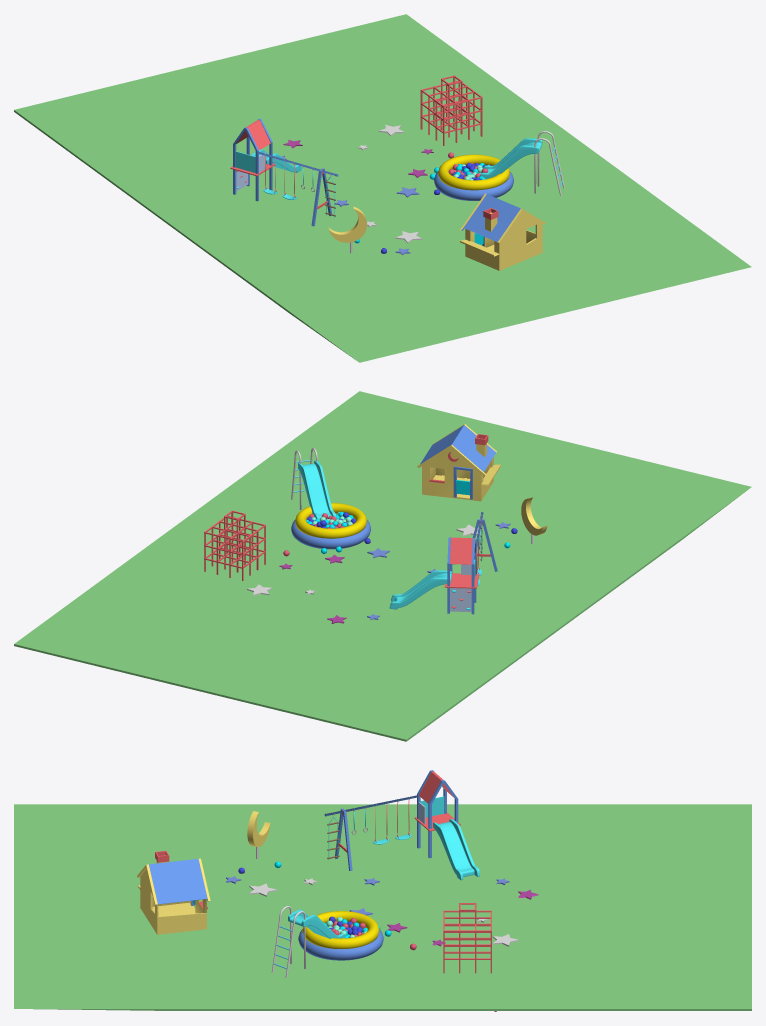
Rendered from Chambre_enfant_souvenir.fbx.
3 renders of one model, top to bottom at view 1: azimuth 30°, elevation 25°; view 2: azimuth 150°, elevation 25°; view 3: azimuth 270°, elevation 25°, orthographic. The views are drawn at different scales.
Visible parts, largest first — view 1: Plane.004, Cube, jeu_strucutre, cage_poule, piscine, piscine.001, toboggan.001; view 2: Plane.004, Cube, jeu_strucutre, cage_poule, piscine, toboggan.001, piscine.001, toboggan, Balles_piscine; view 3: Plane.004, Cube, jeu_strucutre, cage_poule, piscine, toboggan, piscine.001, toboggan.001, Balles_piscine, BézierCurve, lune.
Boxes of the visible parts, left/top/right/bottom form: Plane.004: left=14, top=14, right=751, bottom=362; Cube: left=460, top=193, right=545, bottom=270; jeu_strucutre: left=230, top=118, right=338, bottom=226; cage_poule: left=420, top=75, right=482, bottom=145; piscine: left=438, top=154, right=509, bottom=190; piscine.001: left=434, top=171, right=513, bottom=200; toboggan.001: left=479, top=138, right=542, bottom=178; Plane.004: left=14, top=391, right=751, bottom=741; Cube: left=417, top=424, right=501, bottom=501; jeu_strucutre: left=444, top=512, right=497, bottom=614; cage_poule: left=204, top=510, right=265, bottom=580; piscine: left=295, top=503, right=366, bottom=538; toboggan.001: left=298, top=460, right=335, bottom=519; piscine.001: left=291, top=520, right=370, bottom=549; toboggan: left=389, top=570, right=451, bottom=609; Balles_piscine: left=306, top=511, right=356, bottom=528; Plane.004: left=14, top=804, right=751, bottom=1010; Cube: left=137, top=858, right=210, bottom=934; jeu_strucutre: left=324, top=770, right=460, bottom=870; cage_poule: left=443, top=903, right=491, bottom=973; piscine: left=302, top=911, right=379, bottom=948; toboggan: left=433, top=819, right=479, bottom=880; piscine.001: left=298, top=929, right=383, bottom=960; toboggan.001: left=288, top=909, right=345, bottom=938; Balles_piscine: left=324, top=916, right=367, bottom=938; BézierCurve: left=271, top=906, right=305, bottom=977; lune: left=247, top=811, right=270, bottom=847.
Size of the model in its own units: 2951 by 771 by 4502.
